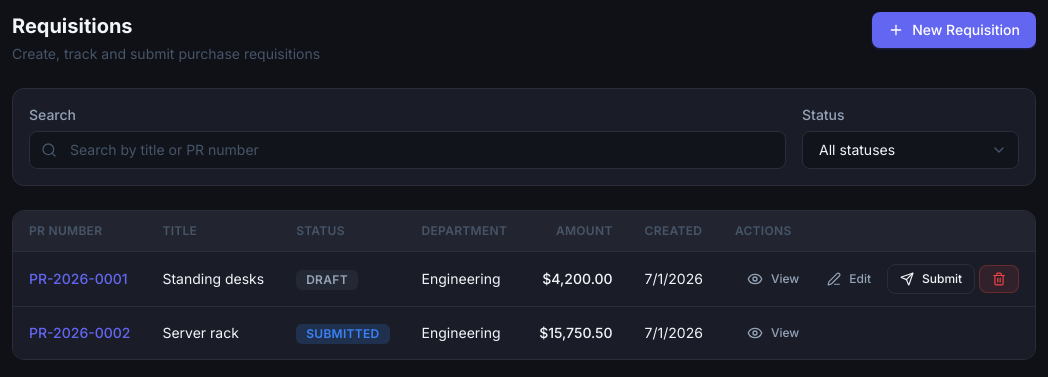
Test: RequisitionListPage › filters by status
Expected: the text "PR-2026-0001" is shown, top-left (29, 270), bottom-right (128, 287)
Select "Submitted" in the dropdown labelled "Status" at (910, 150), box top-left (802, 131), bottom-right (1019, 169)
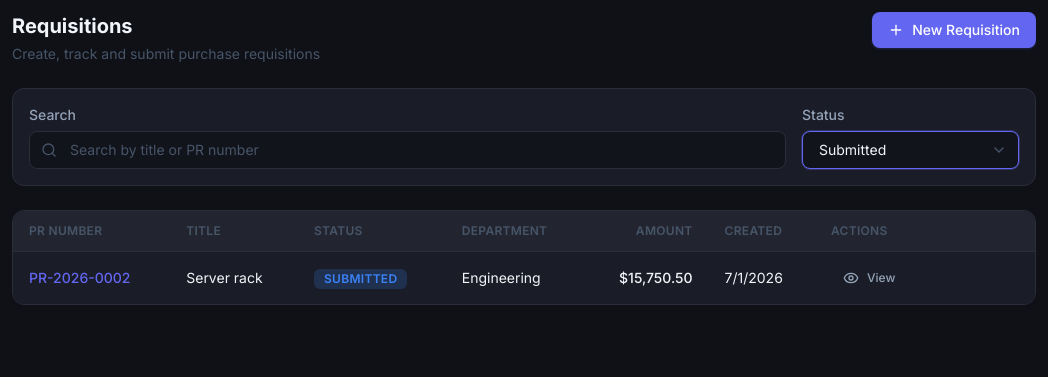
Expected: the text "PR-2026-0002" is shown, top-left (29, 269), bottom-right (130, 286)
Expected: the text "PR-2026-0001" is gone
